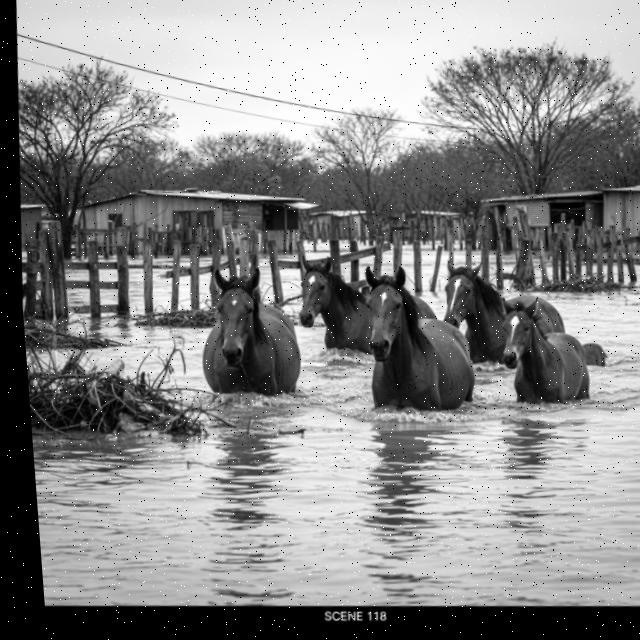horse: (343, 249, 489, 427), (432, 243, 585, 386), (285, 242, 438, 375), (191, 259, 318, 410), (489, 287, 610, 422)
